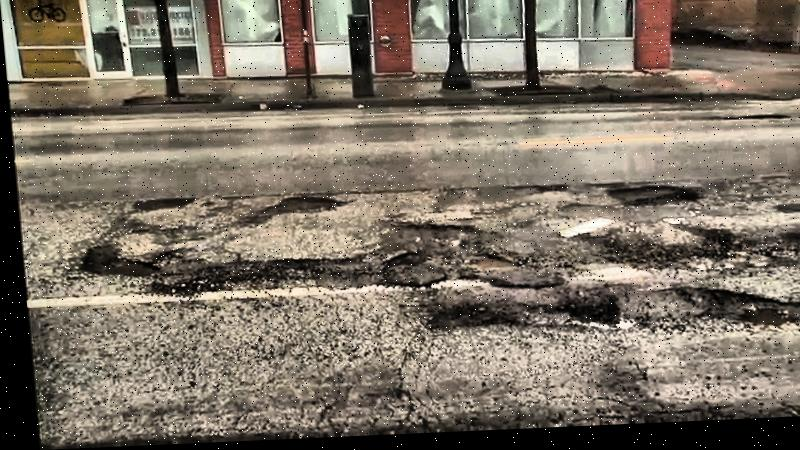pothole: (652, 290, 800, 344), (70, 241, 158, 286), (598, 187, 697, 218), (267, 192, 344, 222), (453, 254, 517, 279), (128, 195, 189, 215)
